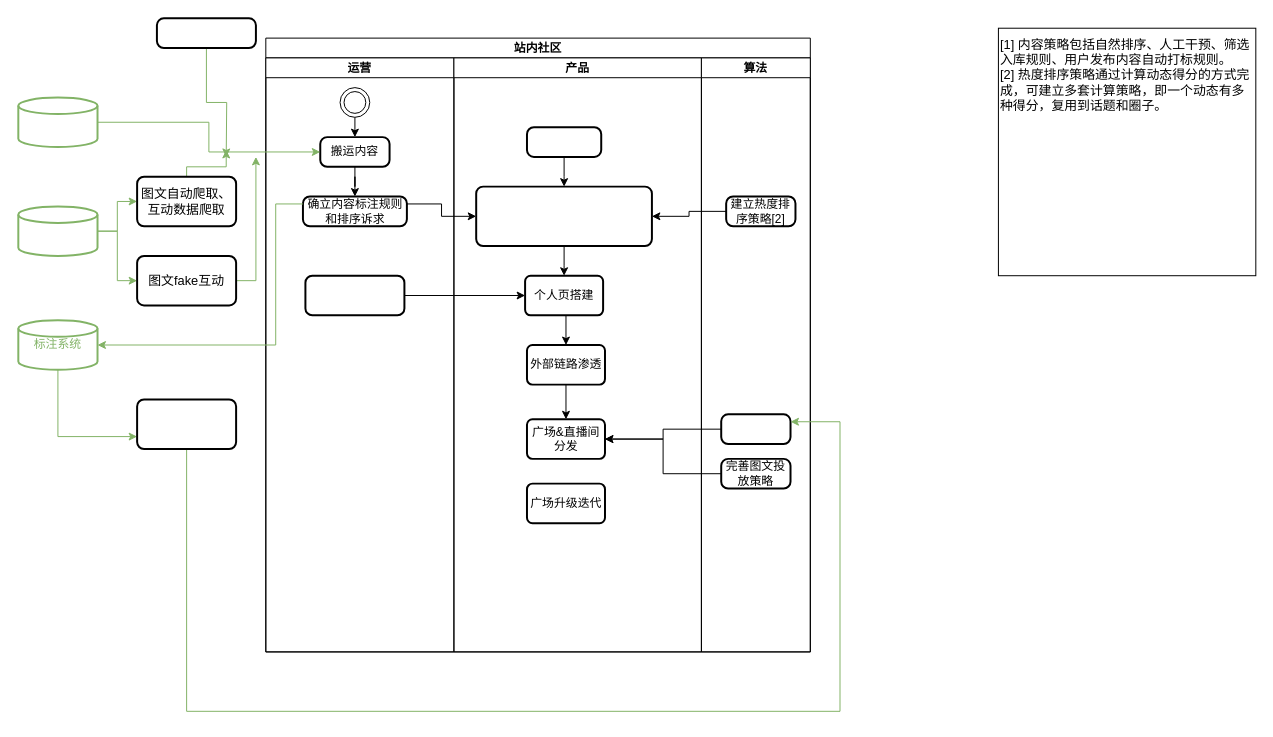
Image size: 1273x737. Some labels were removed from this diagram. Each missing label, with the centre of its shape:
"厂商入驻" belongs at (x=354, y=295).
"外团水军搭建" belongs at (x=205, y=33).
"外站" belongs at (x=57, y=122).
"底层后台搭建" belongs at (x=563, y=141).
"建立图文混排分发策略" belongs at (x=755, y=429).
"构建图文标签、品类体系" belongs at (x=186, y=423).
"爬虫系统" belongs at (x=57, y=230).
"确定圈子、list内容策略[1]和映射规则" belongs at (x=563, y=216).
